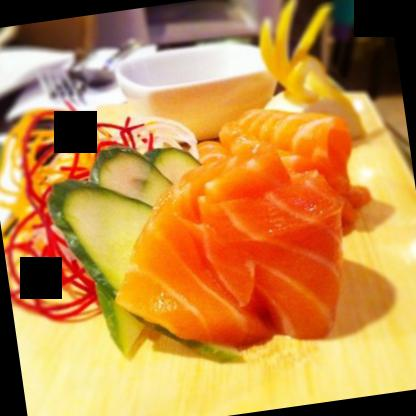salmon: (102, 98, 382, 354)
